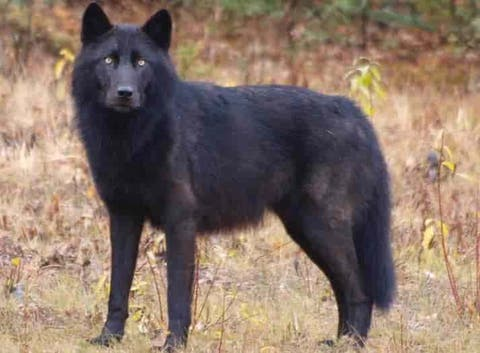Lobo: (55, 10, 417, 341)
